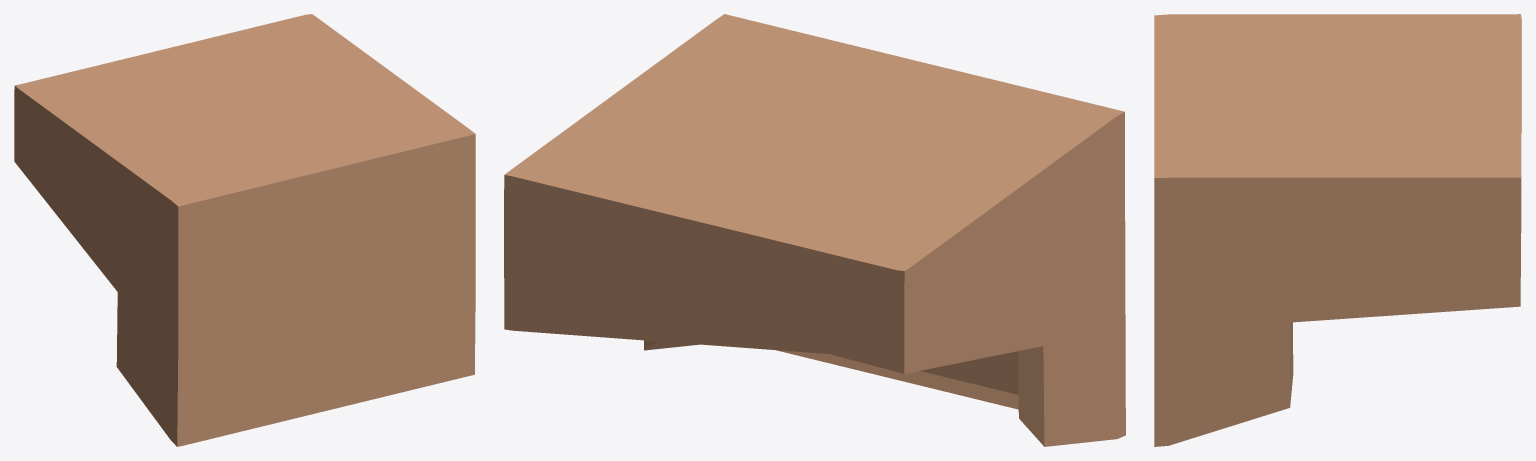
File: morefilling_hair.fbx
3 views of the same model, side by side, from view 1: azimuth 30°, elevation 25°; view 2: azimuth 150°, elevation 25°; view 3: azimuth 270°, elevation 25° (orthographic). The views are drawn at different scales.
Parts seen in each view (by area): view 1: Cube; view 2: Cube; view 3: Cube.
Boxes of the visible parts, x1,y1,x2,y2 form: Cube: (14, 14, 475, 446); Cube: (504, 14, 1125, 446); Cube: (1154, 14, 1521, 446).
Bounding box in the file's own units: 0.5862 × 0.4538 × 0.5579.
